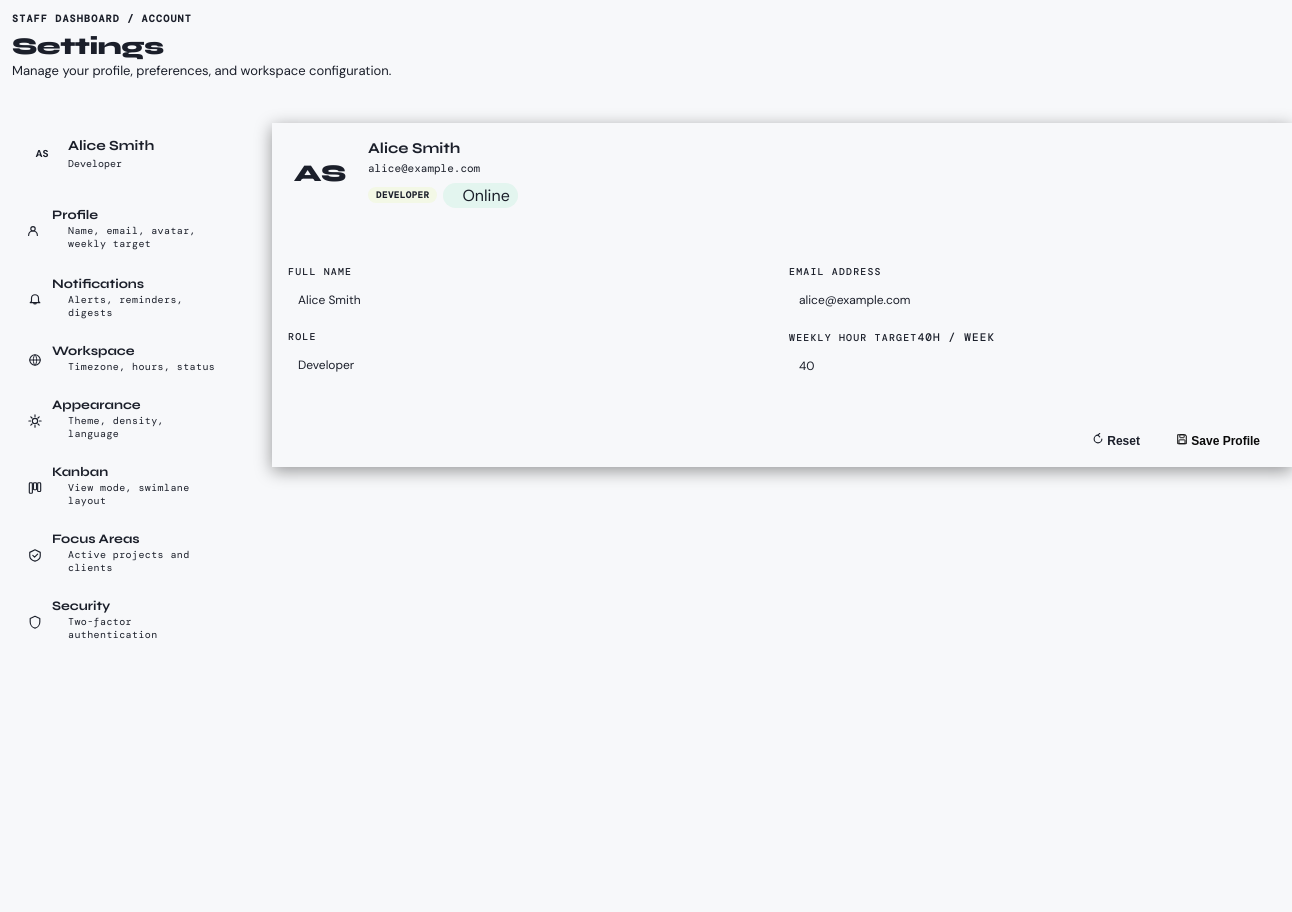
it: SettingsPage — initial render › clicking Notifications tab shows notification preferences panel
What coordinates should you click on to do the following:
click the tab "Notifications Alerts, reminders, digests"
I would click on:
 (132, 301)
Its box is [12, 268, 252, 335].
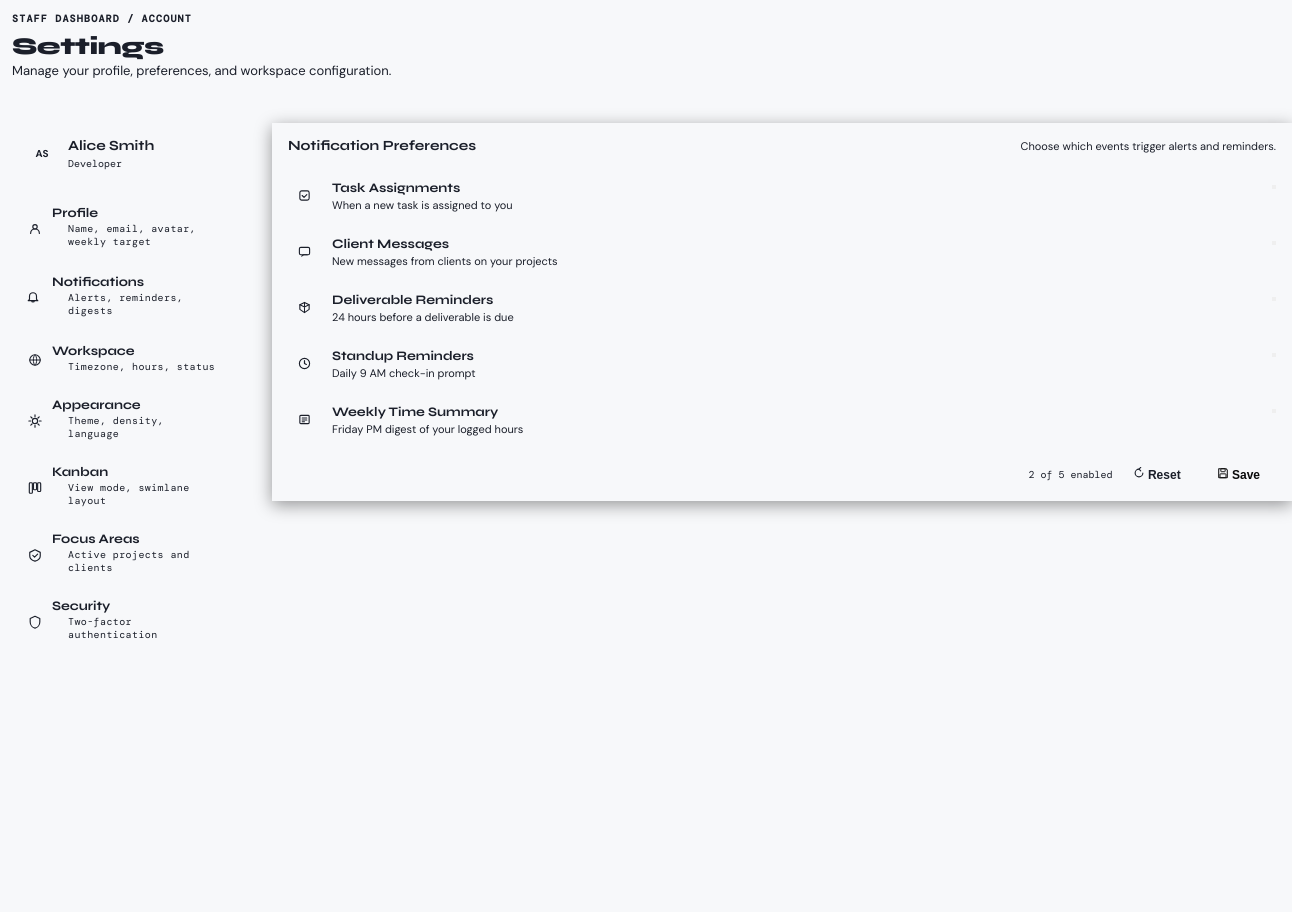
Result: the text "Task Assignments" is shown at [332, 180, 460, 196]
